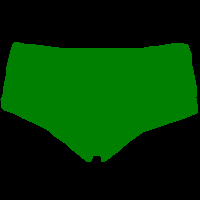mutande: (0, 41, 198, 162)
